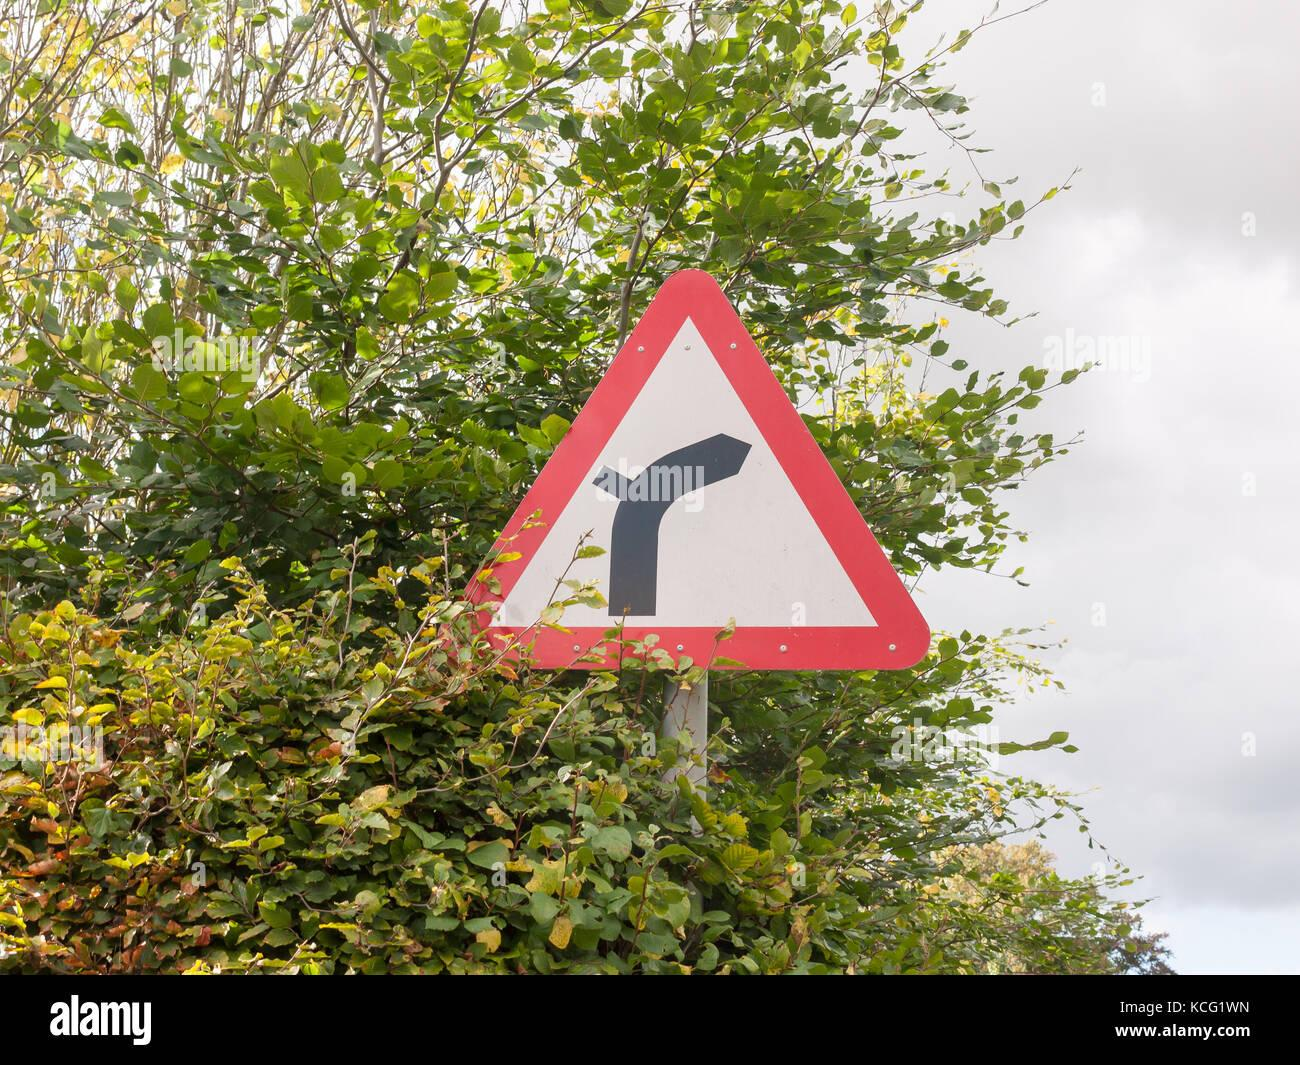sharp-turn: (450, 266, 932, 674)
